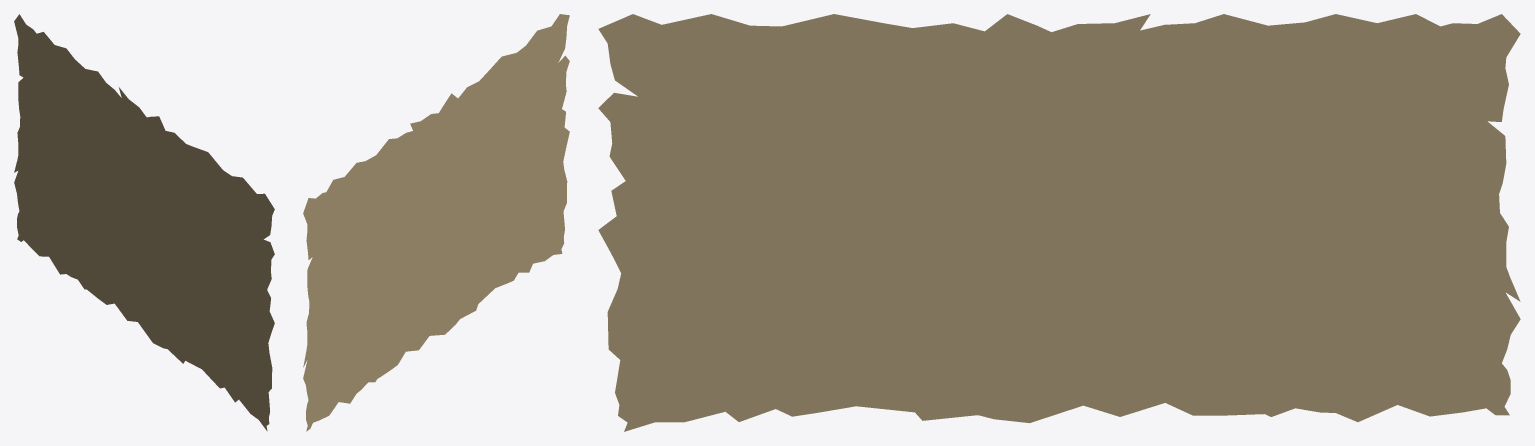
File: carte.glb
3 views of the same model, side by side, from view 1: azimuth 30°, elevation 25°; view 2: azimuth 150°, elevation 25°; view 3: azimuth 270°, elevation 25° (orthographic). The views are drawn at different scales.
Parts seen in each view (by area): view 1: Cube; view 2: Cube; view 3: Cube.
Part boxes in pixels (<box>): Cube: <box>14,14,274,431</box>; Cube: <box>303,14,569,431</box>; Cube: <box>598,14,1520,431</box>.
Bounding box in the file's own units: 1.75e-07 × 2 × 4.
